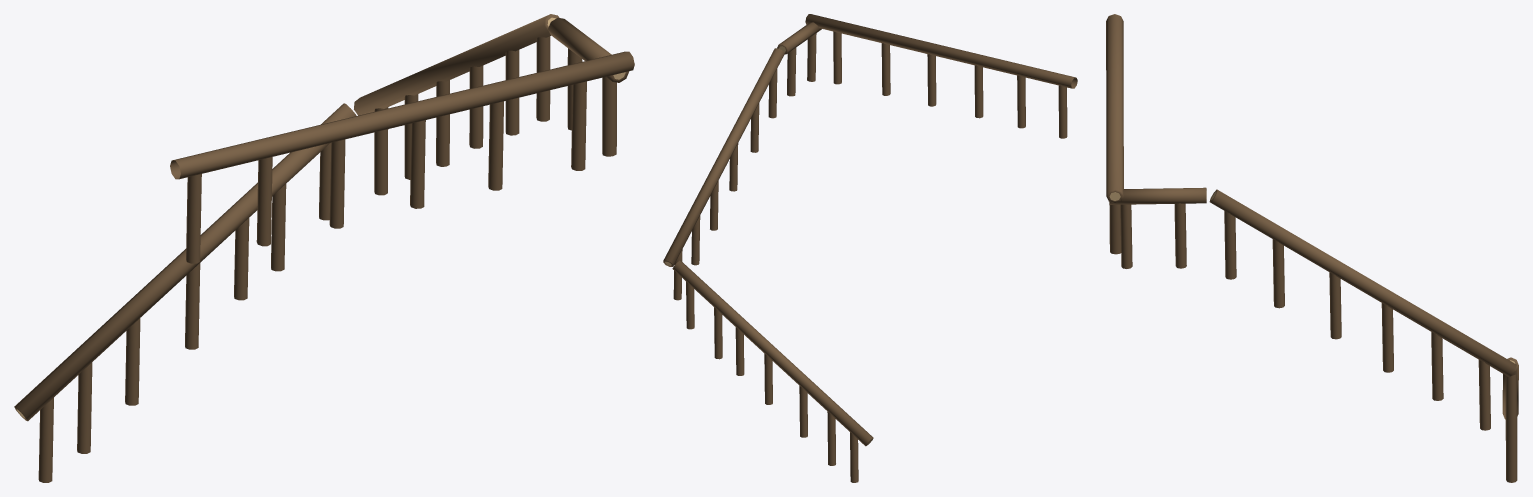
File: rpgpp_ag_stairs_interior_01b_4m_handrail_01.fbx
3 views of the same model, side by side, from view 1: azimuth 30°, elevation 25°; view 2: azimuth 150°, elevation 25°; view 3: azimuth 270°, elevation 25° (orthographic). The views are drawn at different scales.
Visible parts, largest first — view 1: rpgpp_ag_stairs_interior_01b_4m_handrail_01; view 2: rpgpp_ag_stairs_interior_01b_4m_handrail_01; view 3: rpgpp_ag_stairs_interior_01b_4m_handrail_01.
Part boxes in pixels (x1=…): rpgpp_ag_stairs_interior_01b_4m_handrail_01: x1=14, y1=14, x2=634, y2=482; rpgpp_ag_stairs_interior_01b_4m_handrail_01: x1=663, y1=14, x2=1077, y2=482; rpgpp_ag_stairs_interior_01b_4m_handrail_01: x1=1106, y1=14, x2=1518, y2=482.
Bounding box in the file's own units: 4.22 × 4.74 × 4.23.
